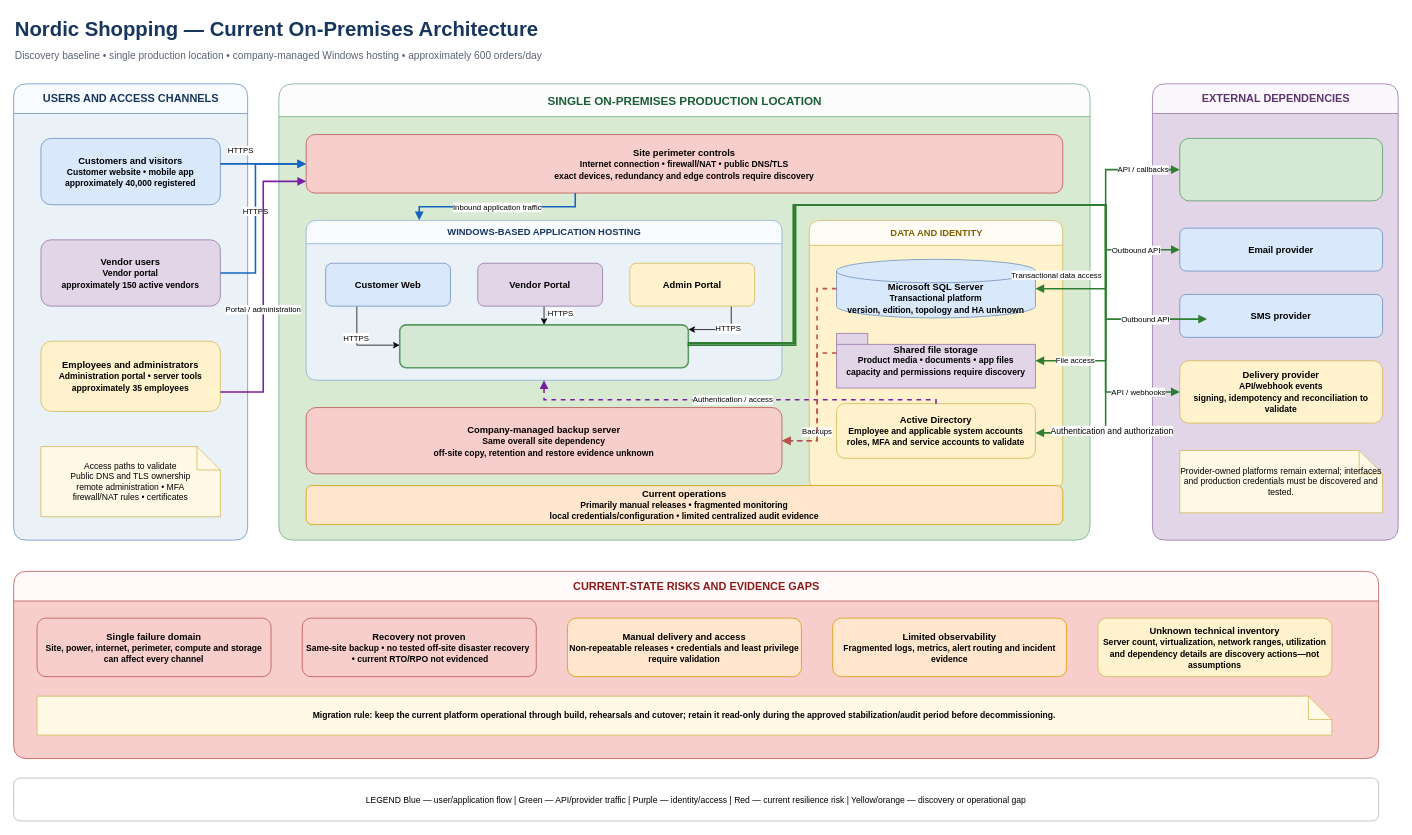
This 1412x835 diagram has some shape labels left out. Each missing label, with the centre of its shape:
Nordic API Business logic • transactions • provider integration: (544,346)
Payment provider API + signed callbacks full card data/CVV not intended on site: (1281,169)
